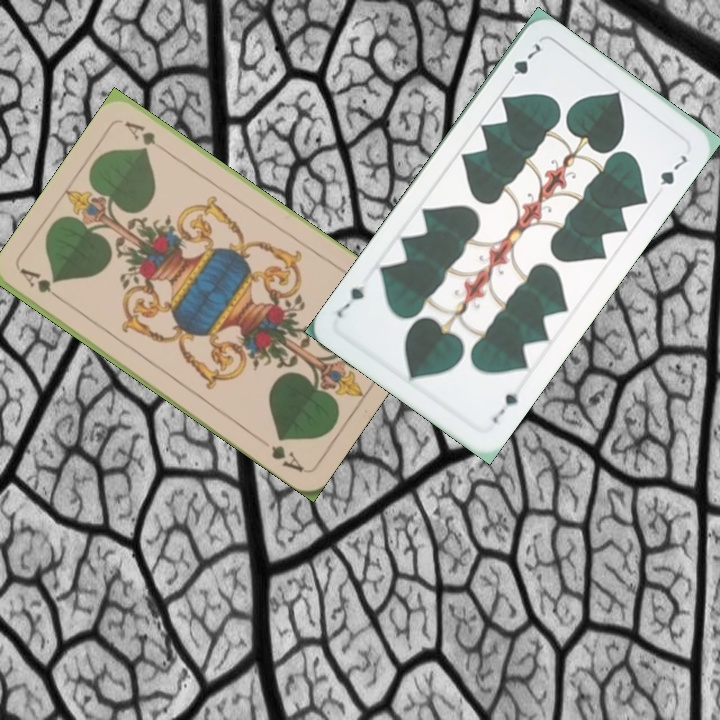G7: (502, 39, 545, 89), (488, 388, 521, 427)
GA: (16, 264, 68, 306)
